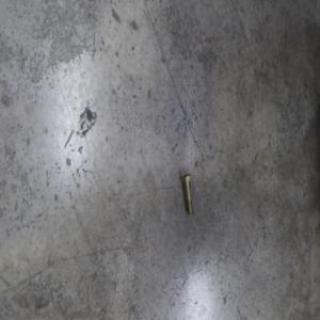Bolttrack_idkeyframe: (182, 171, 195, 216)
